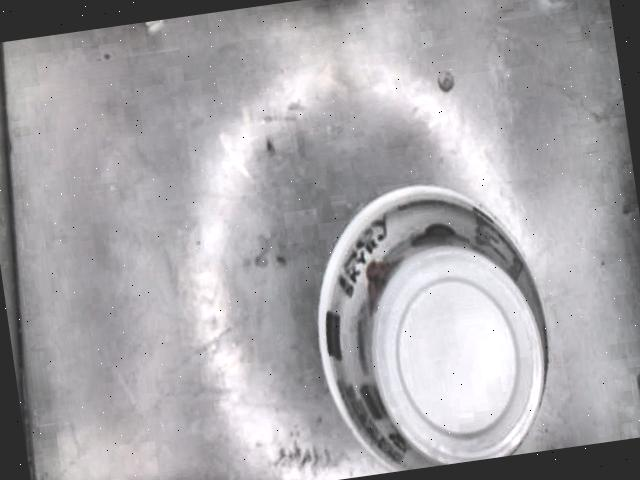Plastic: (320, 182, 552, 471)
